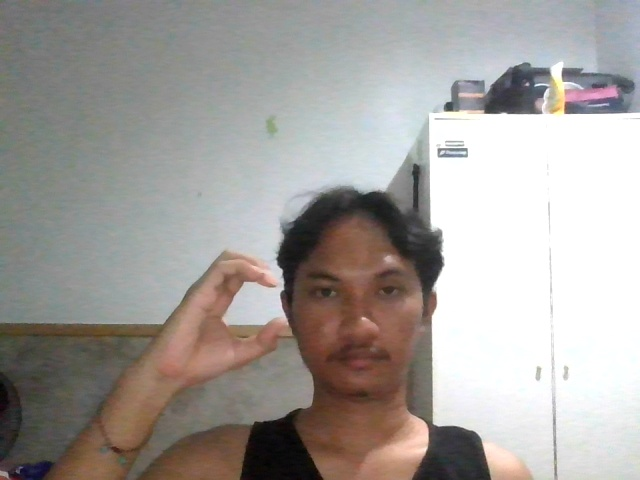c: (142, 241, 292, 386)
